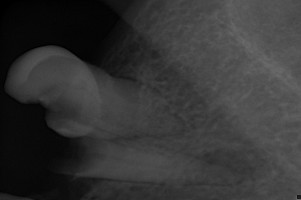Furcation Involvement: (198, 146, 255, 179)
